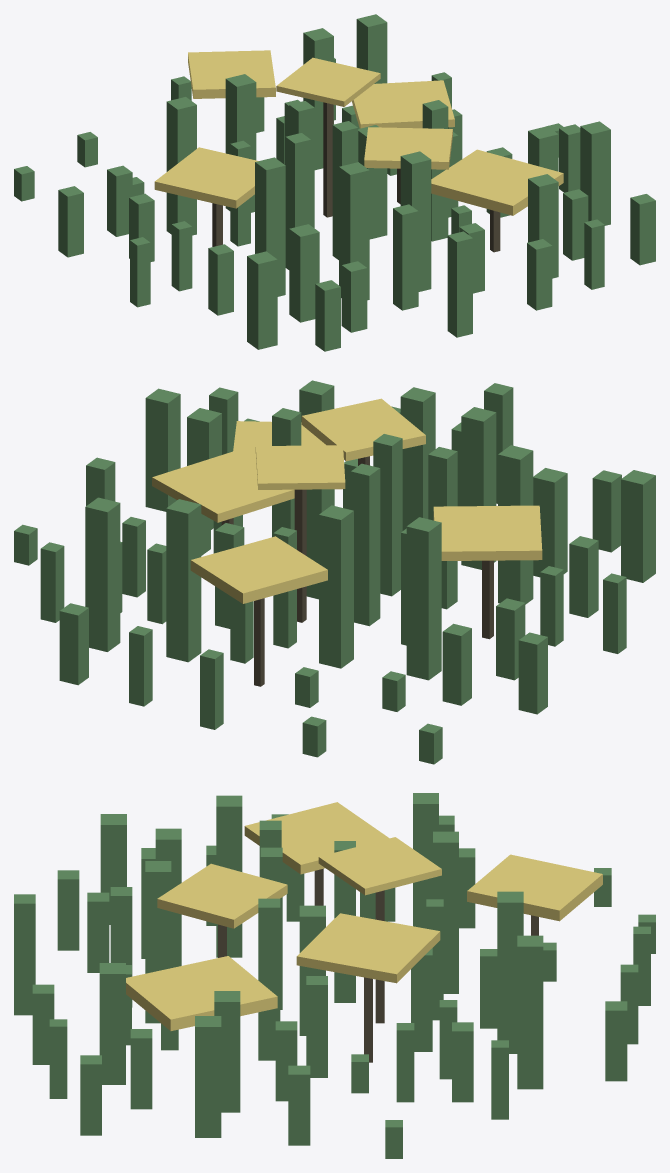
File: PlantD_003.fbx
3 views of the same model, one above another, from view 1: azimuth 30°, elevation 25°; view 2: azimuth 150°, elevation 25°; view 3: azimuth 270°, elevation 25° (orthographic). The views are drawn at different scales.
Parts seen in each view (by area): view 1: PlantD_003; view 2: PlantD_003; view 3: PlantD_003.
Boxes of the visible parts, x1,y1,x2,y2 form: PlantD_003: (14,14,655,351); PlantD_003: (14,380,655,764); PlantD_003: (14,793,655,1158).
Size of the model in its own units: 0.9808 by 0.2675 by 0.977.
